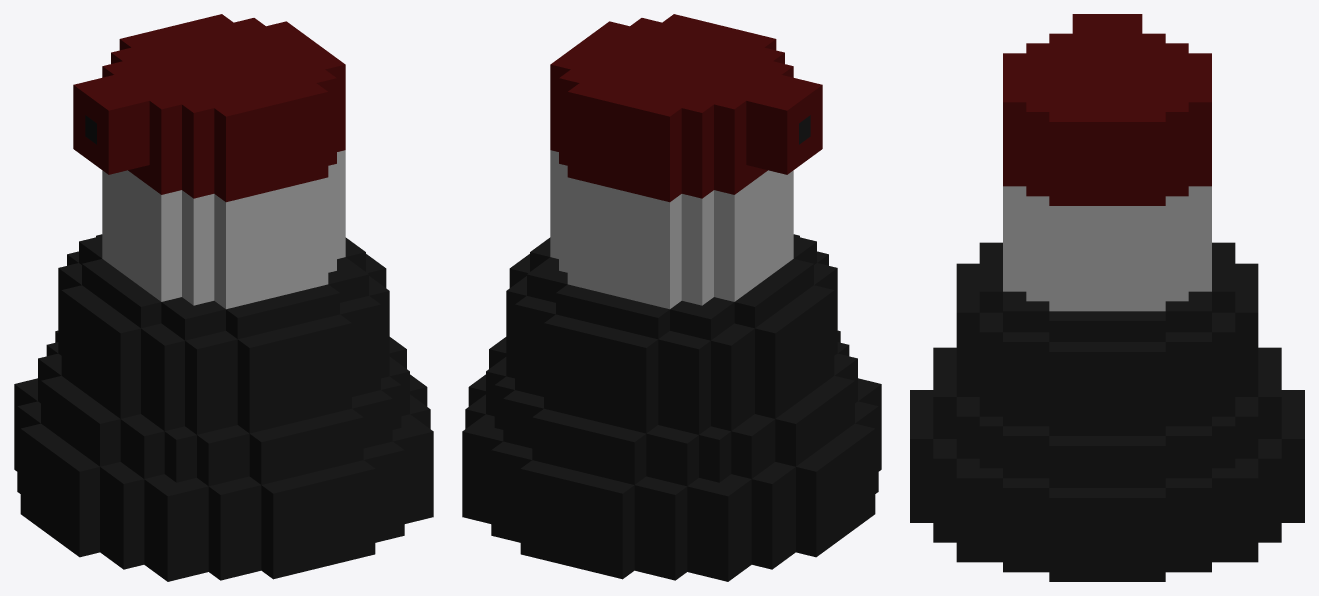
The model's file is Soy_Sauce.FBX.
The picture shows the model from 3 angles, left to right: view 1: azimuth 30°, elevation 25°; view 2: azimuth 150°, elevation 25°; view 3: azimuth 270°, elevation 25°; orthographic projection.
Visible parts, largest first — view 1: Soy_Sauce; view 2: Soy_Sauce; view 3: Soy_Sauce.
Part boxes in pixels (x1,y1,x2,y2): Soy_Sauce: (14,14,433,581); Soy_Sauce: (462,14,881,581); Soy_Sauce: (910,14,1304,581).
Bounding box in the file's own units: 1.7 × 2 × 1.7.
